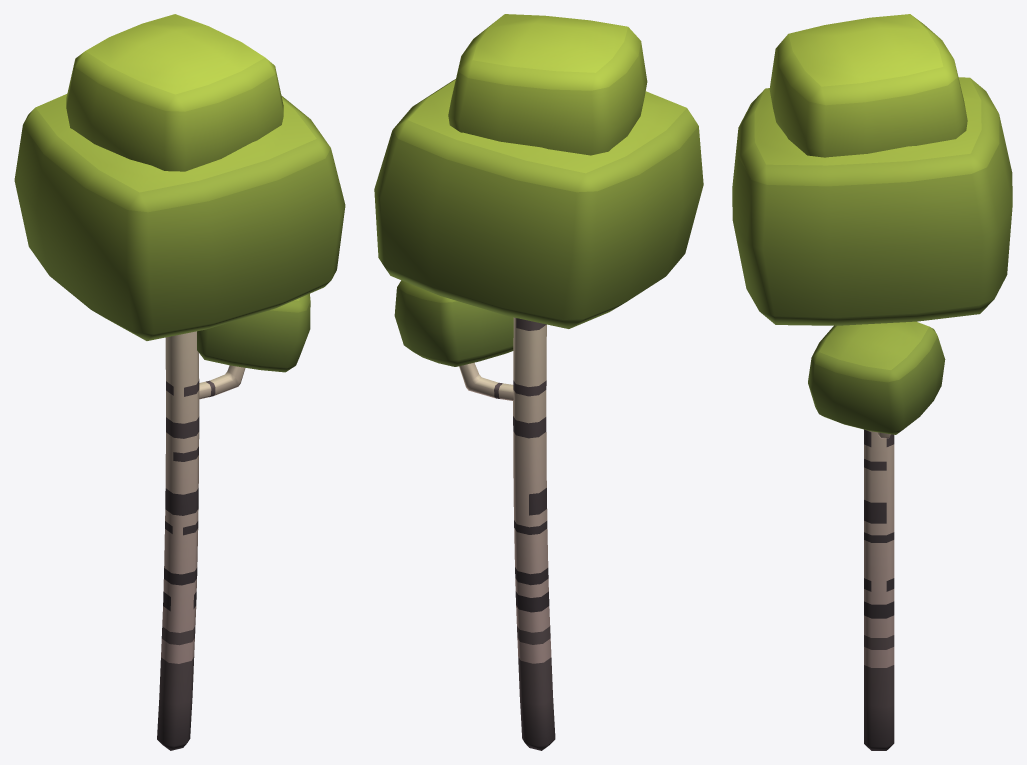
Rendered from birch_tree_col1_04.fbx.
The picture shows the model from 3 angles, left to right: view 1: azimuth 30°, elevation 25°; view 2: azimuth 150°, elevation 25°; view 3: azimuth 270°, elevation 25°; orthographic projection.
Parts seen in each view (by area): view 1: birch_tree_col1_04; view 2: birch_tree_col1_04; view 3: birch_tree_col1_04.
Boxes of the visible parts, x1=… form: birch_tree_col1_04: x1=14, y1=14, x2=345, y2=750; birch_tree_col1_04: x1=374, y1=14, x2=703, y2=750; birch_tree_col1_04: x1=732, y1=14, x2=1012, y2=750.
Size of the model in its own units: 365 by 975 by 351.
1 material, 1 textured.
